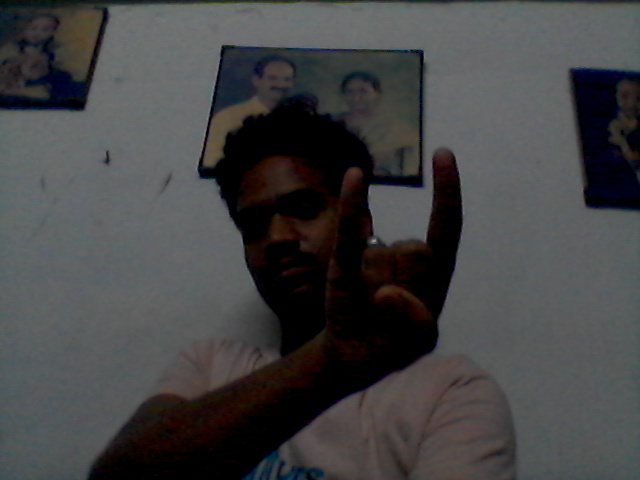I Love You: (315, 140, 476, 392)
